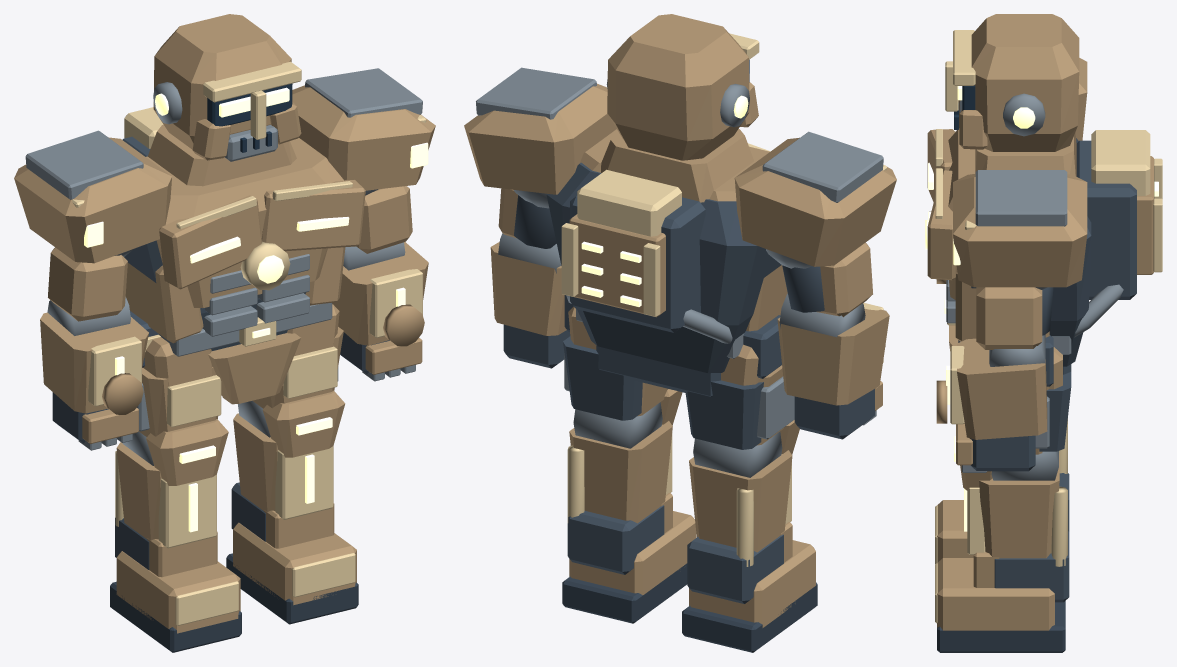
The model's file is player_two.glb.
The picture shows the model from 3 angles, left to right: view 1: azimuth 30°, elevation 25°; view 2: azimuth 150°, elevation 25°; view 3: azimuth 270°, elevation 25°; orthographic projection. The views are drawn at different scales.
Visible parts, largest first — view 1: shoulder_pauldron_63, shoulder_pauldron_78, helmet_94, thorax_carapace_2, pectoral_plate_3, pectoral_plate_13, forearm_bracer_69, boot_toe_31, boot_toe_47, shoulder_upper_lamella_121, upper_arm_plate_67, codpiece_24 (+57 smaller); view 2: helmet_94, torso_1, shoulder_pauldron_63, shoulder_pauldron_78, forearm_bracer_69, shin_armor_51, shin_armor_35, reactor_pack_108, neck_guard_collar_93, reactor_armored_cover_109, forearm_bracer_84, reactor_charge_bank_125 (+32 smaller); view 3: helmet_94, shoulder_pauldron_78, forearm_bracer_84, boot_toe_47, reactor_pack_108, shin_armor_51, shoulder_upper_lamella_123, upper_arm_plate_82, reactor_charge_bank_125, boot_sole_46, boot_ankle_49, torso_1 (+30 smaller).
Boxes of the visible parts, left/top/right/bottom form: shoulder_pauldron_63: left=14, top=137, right=171, bottom=263; shoulder_pauldron_78: left=292, top=85, right=435, bottom=190; helmet_94: left=153, top=14, right=291, bottom=149; thorax_carapace_2: left=146, top=138, right=343, bottom=308; pectoral_plate_3: left=159, top=195, right=261, bottom=289; pectoral_plate_13: left=261, top=180, right=365, bottom=251; forearm_bracer_69: left=40, top=312, right=148, bottom=413; boot_toe_31: left=116, top=551, right=240, bottom=633; boot_toe_47: left=233, top=522, right=356, bottom=605; shoulder_upper_lamella_121: left=25, top=130, right=143, bottom=199; upper_arm_plate_67: left=48, top=247, right=127, bottom=321; codpiece_24: left=208, top=333, right=300, bottom=404; helmet_94: left=607, top=14, right=749, bottom=160; torso_1: left=546, top=162, right=781, bottom=373; shoulder_pauldron_63: left=734, top=137, right=896, bottom=266; shoulder_pauldron_78: left=464, top=83, right=616, bottom=194; forearm_bracer_69: left=777, top=308, right=889, bottom=405; shin_armor_51: left=569, top=421, right=672, bottom=523; shin_armor_35: left=689, top=450, right=792, bottom=552; reactor_pack_108: left=570, top=196, right=705, bottom=332; neck_guard_collar_93: left=601, top=129, right=753, bottom=202; reactor_armored_cover_109: left=569, top=214, right=665, bottom=317; forearm_bracer_84: left=490, top=242, right=566, bottom=335; reactor_charge_bank_125: left=577, top=169, right=681, bottom=236; helmet_94: left=971, top=14, right=1079, bottom=151; shoulder_pauldron_78: left=953, top=173, right=1087, bottom=287; forearm_bracer_84: left=957, top=338, right=1047, bottom=439; boot_toe_47: left=937, top=558, right=1054, bottom=630; reactor_pack_108: left=1076, top=140, right=1136, bottom=299; shin_armor_51: left=979, top=453, right=1059, bottom=558; shoulder_upper_lamella_123: left=975, top=170, right=1067, bottom=226; upper_arm_plate_82: left=976, top=287, right=1042, bottom=349; reactor_charge_bank_125: left=1091, top=130, right=1150, bottom=195; boot_sole_46: left=937, top=601, right=1065, bottom=652; boot_ankle_49: left=994, top=531, right=1069, bottom=602; torso_1: left=971, top=138, right=1091, bottom=366.
Bounding box in the file's own units: 1.62 × 2.37 × 0.8835.
